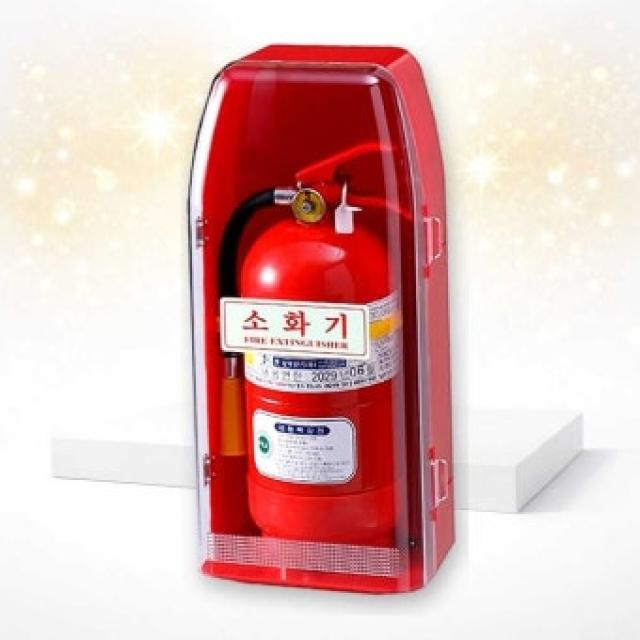pressure gauge: (292, 188, 326, 220)
